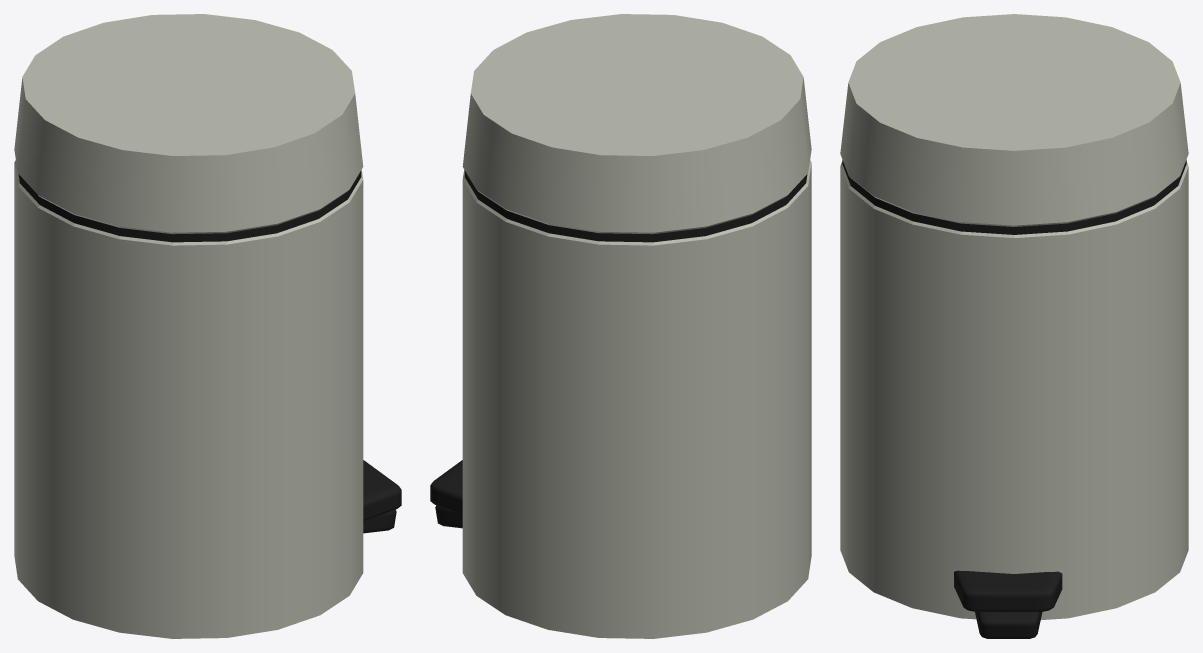
File: wastbasket.fbx
3 renders of one model, left to right at view 1: azimuth 30°, elevation 25°; view 2: azimuth 150°, elevation 25°; view 3: azimuth 270°, elevation 25°, orthographic. The views are drawn at different scales.
Parts seen in each view (by area): view 1: Cylinder003, Box061; view 2: Cylinder003, Box061; view 3: Cylinder003, Box061, Box060.
Part boxes in pixels (x1,y1,x2,y2): Cylinder003: (14,14,363,638); Box061: (363,460,401,520); Cylinder003: (462,14,811,638); Box061: (430,460,462,514); Cylinder003: (840,14,1188,619); Box061: (954,570,1062,611); Box060: (975,612,1042,638).
Bounding box in the file's own units: 35.49 × 47.29 × 31.93.
